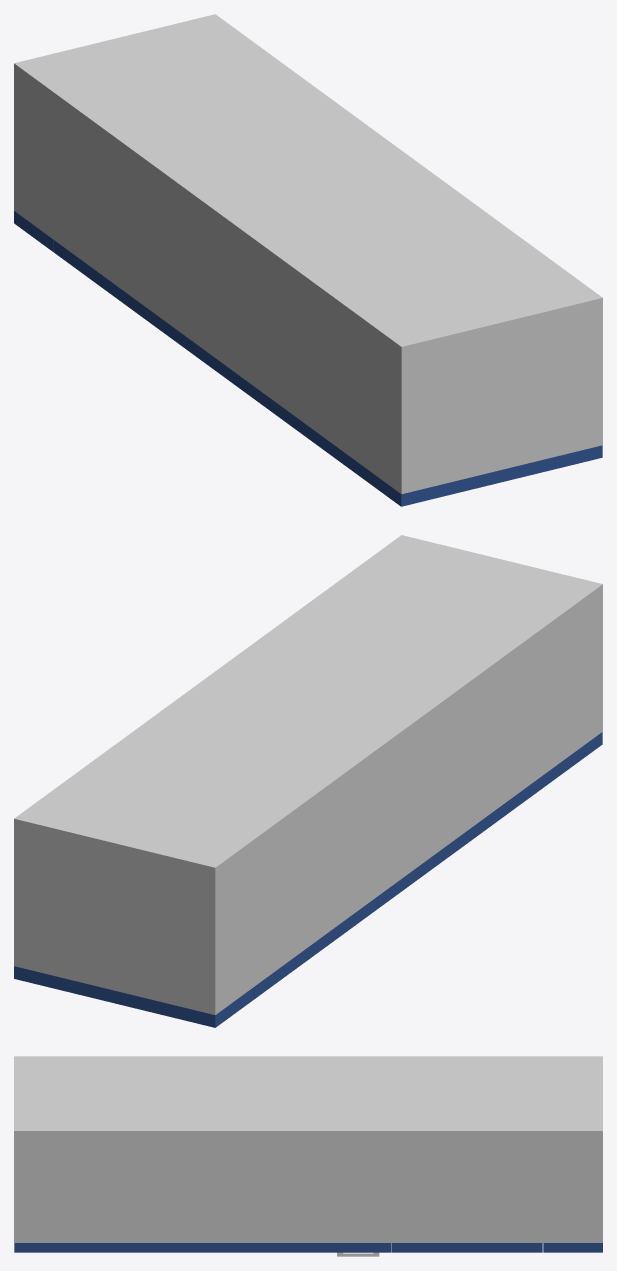
3 renders of one model, top to bottom at view 1: azimuth 30°, elevation 25°; view 2: azimuth 150°, elevation 25°; view 3: azimuth 270°, elevation 25°, orthographic. The views are drawn at different scales.
Parts seen in each view (by area): view 1: Cube; view 2: Cube; view 3: Cube.
Part boxes in pixels (x1,y1,x2,y2): Cube: (14, 14, 602, 506); Cube: (14, 535, 602, 1027); Cube: (14, 1056, 602, 1256).
Bounding box in the file's own units: 60 × 49.45 × 200.
